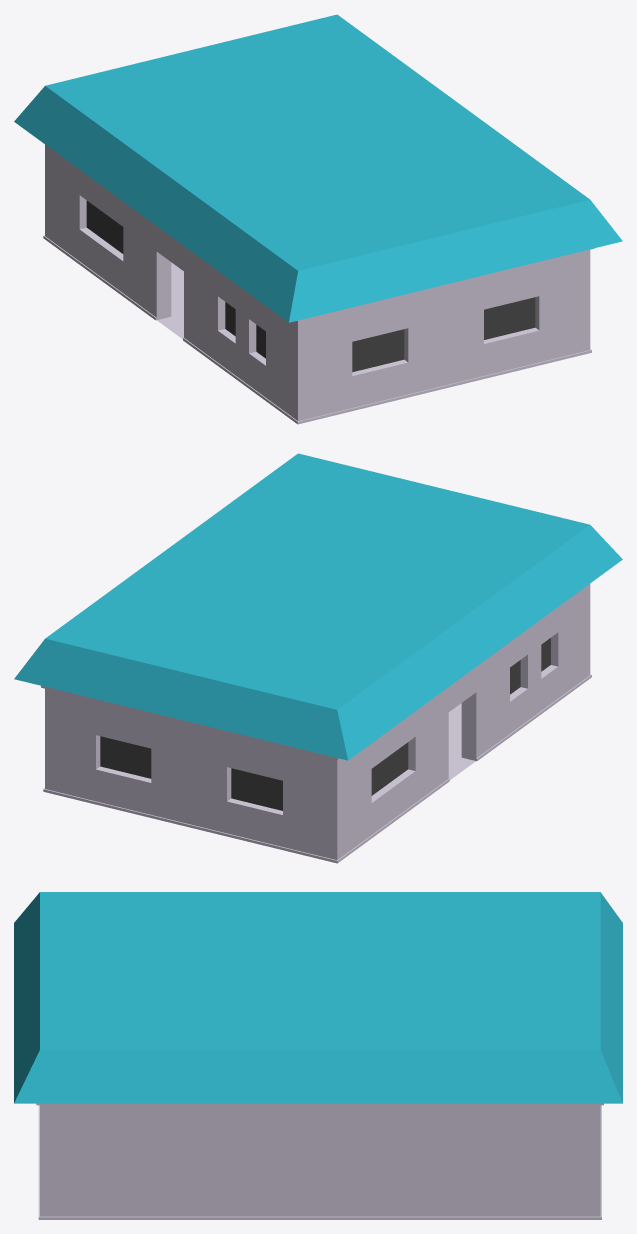
Rendered from medium_house.fbx.
The picture shows the model from 3 angles, top to bottom: view 1: azimuth 30°, elevation 25°; view 2: azimuth 150°, elevation 25°; view 3: azimuth 270°, elevation 25°; orthographic projection. The views are drawn at different scales.
Visible parts, largest first — view 1: main_houseMedium; view 2: main_houseMedium; view 3: main_houseMedium.
Boxes of the visible parts, box(x1,y1,x2,y2) form: main_houseMedium: box(14, 14, 622, 424); main_houseMedium: box(14, 453, 622, 863); main_houseMedium: box(14, 892, 622, 1219).
Size of the model in its own units: 9.15 by 4 by 13.04.
